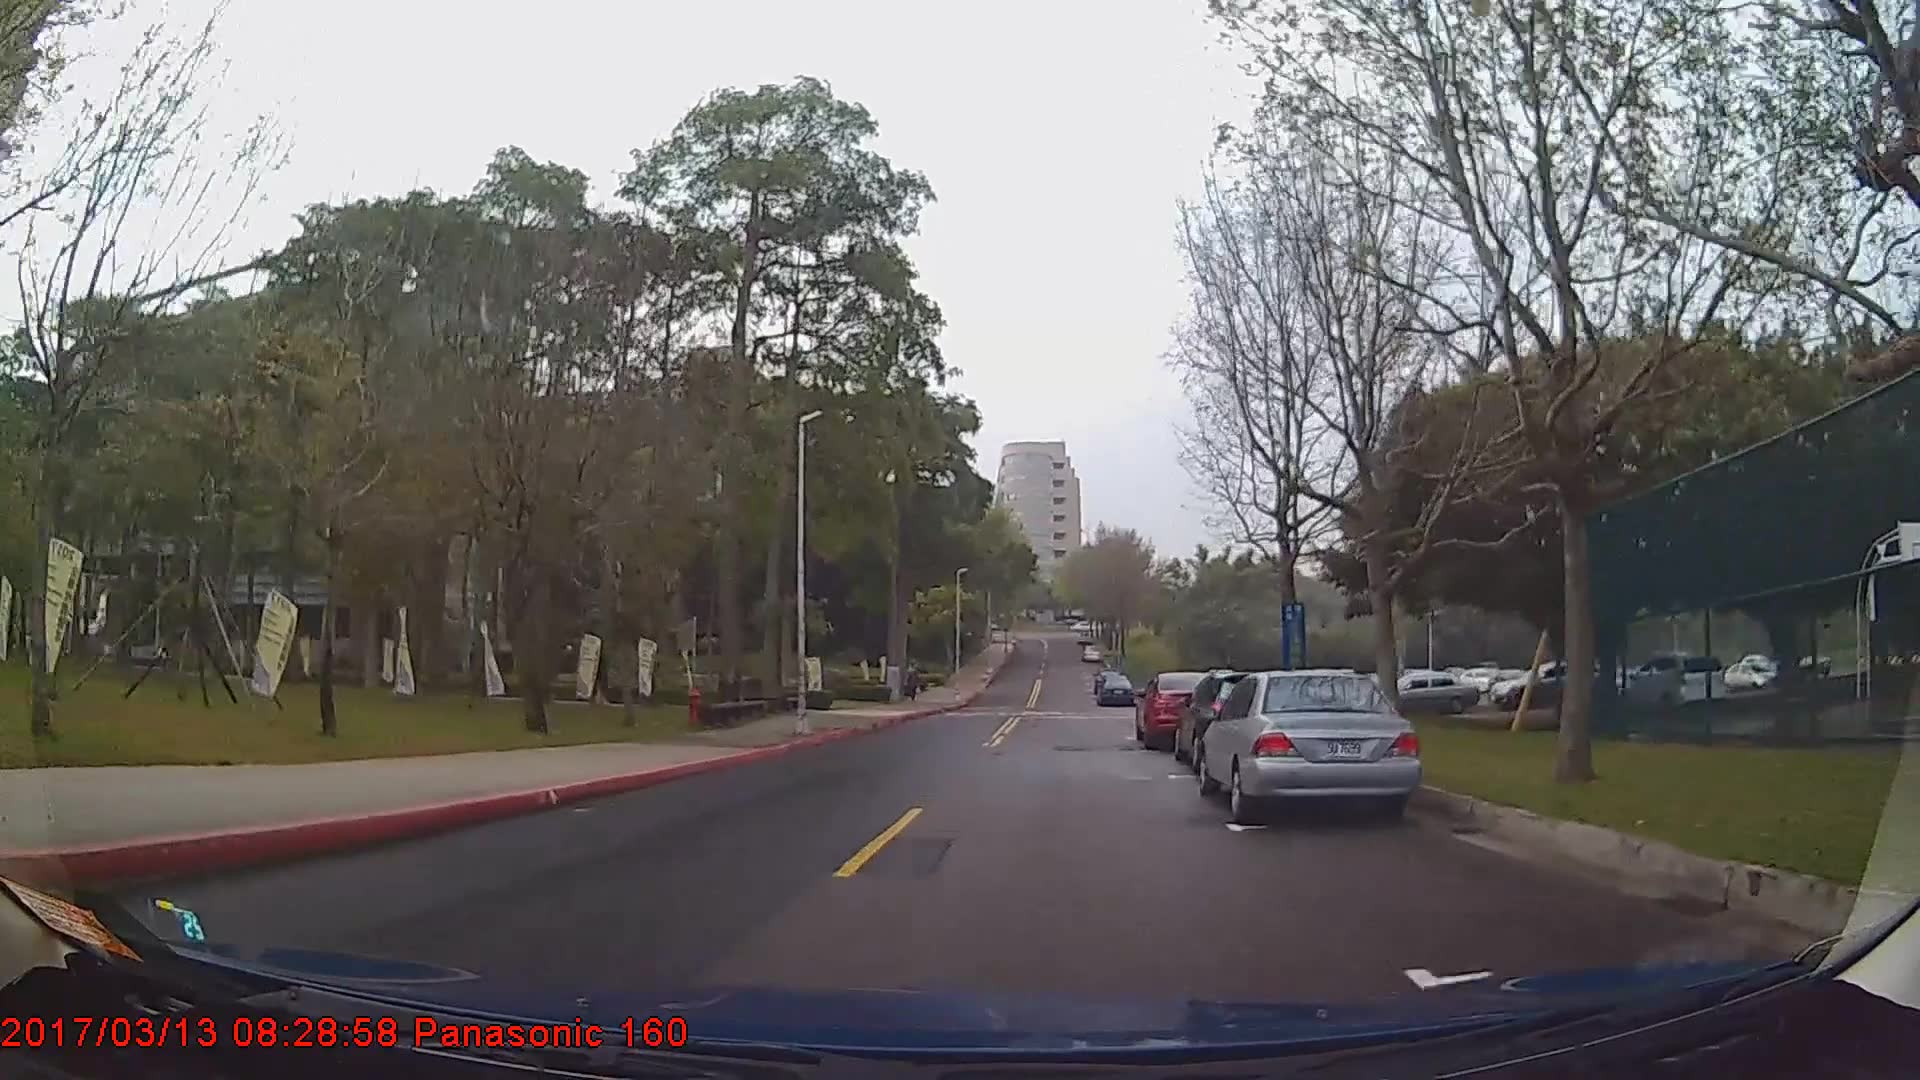vehicle: (1197, 667, 1422, 822), (1135, 669, 1232, 752), (1615, 651, 1725, 713), (1490, 661, 1614, 711), (1382, 666, 1477, 717), (1097, 673, 1133, 708)
